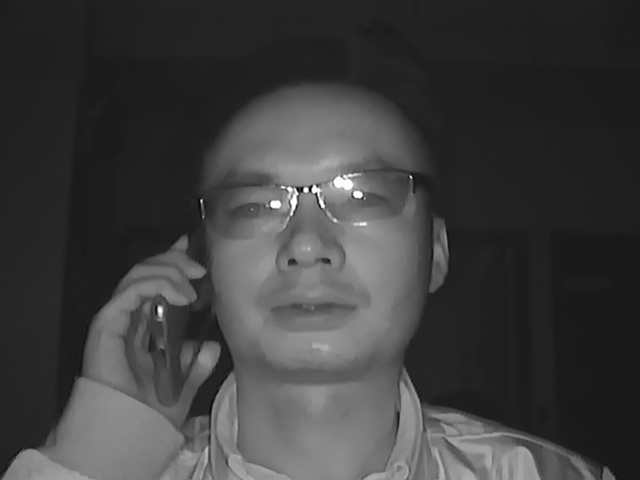hand: (88, 241, 208, 413)
